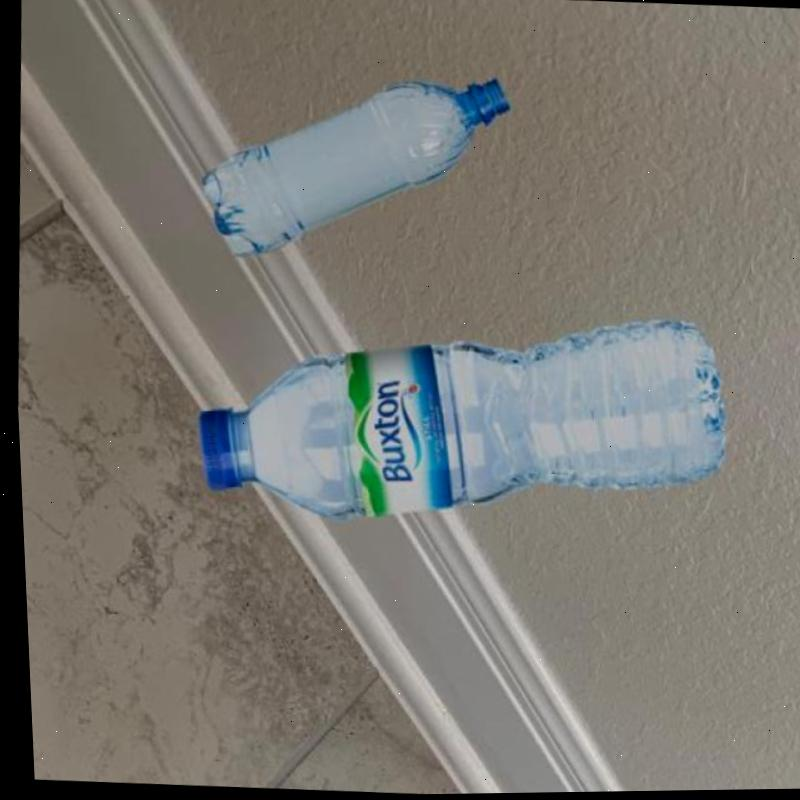botella: (184, 296, 731, 541), (189, 63, 516, 273)
